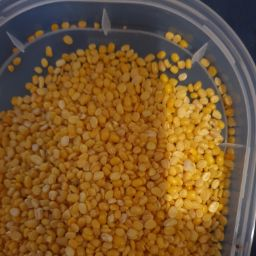Red Split Lentils(malka masar): (16, 32, 214, 256), (32, 70, 232, 213), (78, 93, 220, 256), (34, 86, 190, 218), (7, 106, 105, 256)
